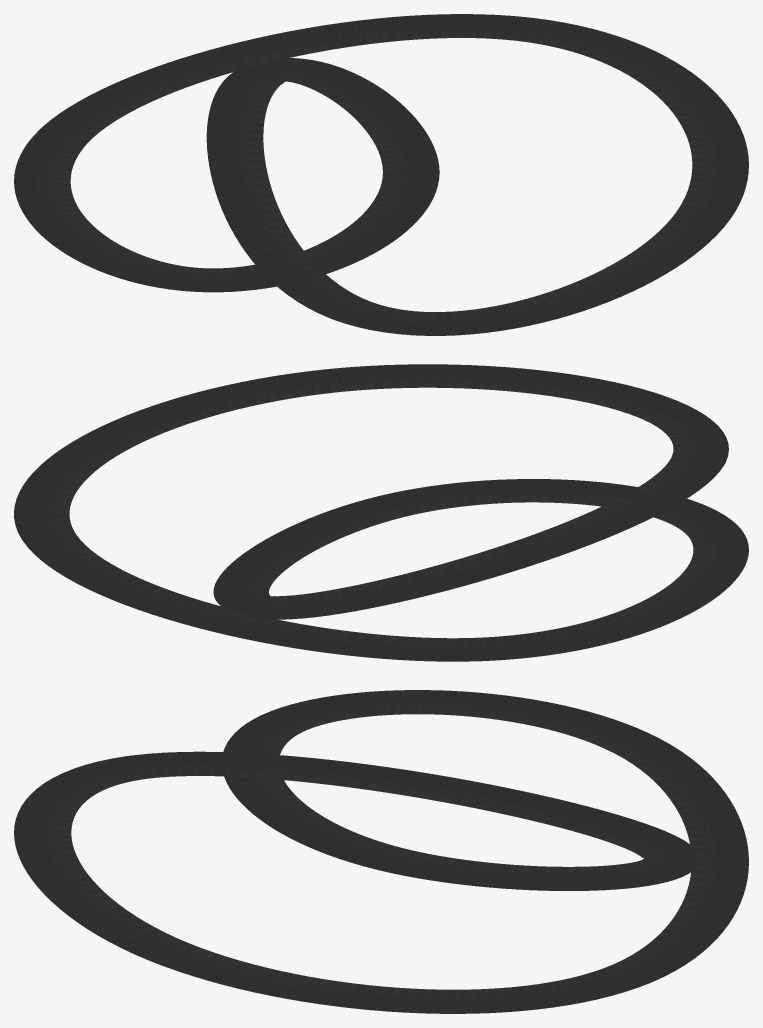
The model's file is pista.obj.
3 views of the same model, one above another, from view 1: azimuth 30°, elevation 25°; view 2: azimuth 150°, elevation 25°; view 3: azimuth 270°, elevation 25° (orthographic). The views are drawn at different scales.
Visible parts, largest first — view 1: pista; view 2: pista; view 3: pista.
Part boxes in pixels (<box>): pista: <box>14,14,748,335</box>; pista: <box>14,364,748,661</box>; pista: <box>14,690,748,1013</box>.
Size of the model in its own units: 20.05 by 0 by 19.23.
